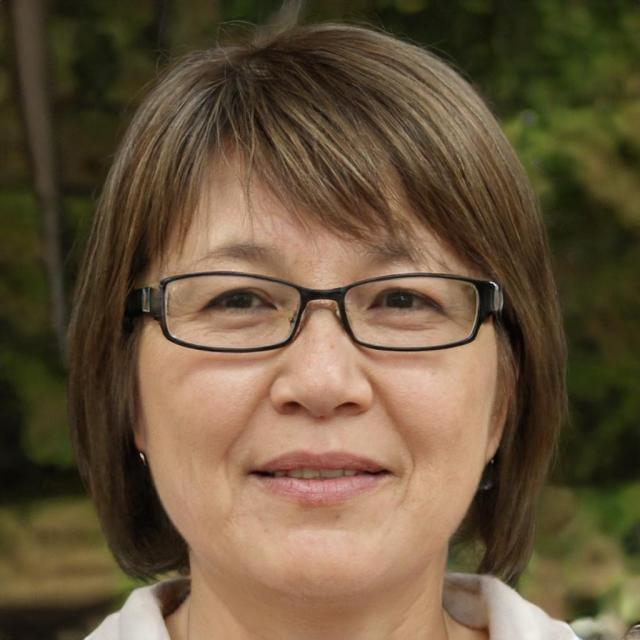lens: (165, 276, 301, 349), (345, 278, 479, 348)
